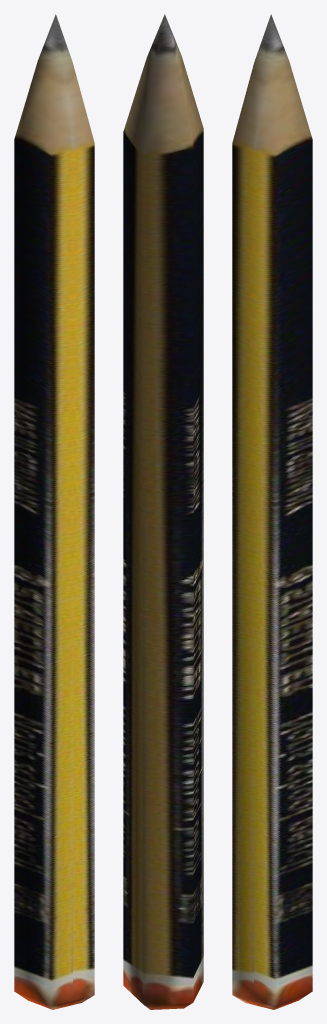
The model's file is Pencil.glb.
The picture shows the model from 3 angles, left to right: view 1: azimuth 30°, elevation 25°; view 2: azimuth 150°, elevation 25°; view 3: azimuth 330°, elevation 25°; orthographic projection.
Visible parts, largest first — view 1: Pencil; view 2: Pencil; view 3: Pencil.
Part boxes in pixels (left/top/right/bottom): Pencil: left=14, top=14, right=94, bottom=1009; Pencil: left=123, top=14, right=203, bottom=1009; Pencil: left=232, top=14, right=312, bottom=1009.
Bounding box in the file's own units: 0.0782 × 1.05 × 0.0743.
Materials: 1 (1 with a texture image).
